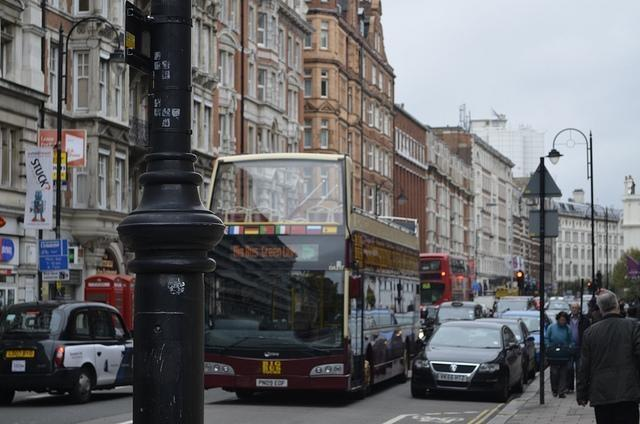bus: (206, 153, 420, 392), (421, 254, 474, 308)
car: (0, 300, 134, 404), (410, 320, 526, 403), (471, 316, 539, 383), (432, 300, 490, 337), (502, 308, 546, 351), (544, 298, 572, 324), (474, 296, 496, 313)
